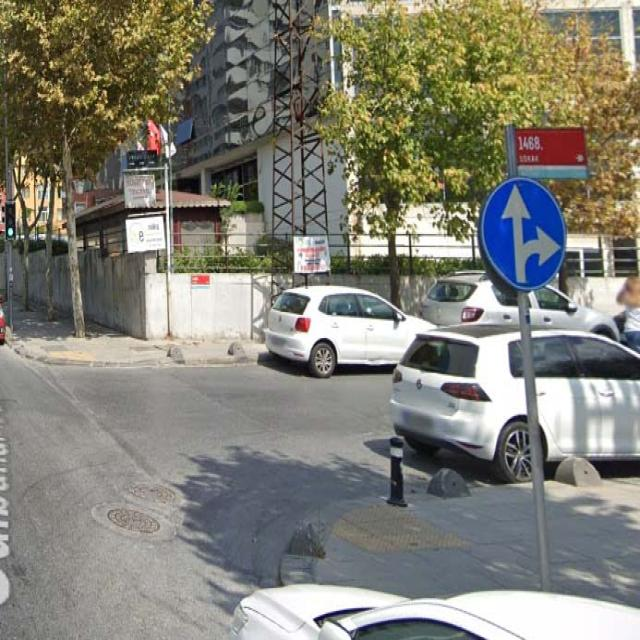ilerisag: (479, 177, 566, 290)
